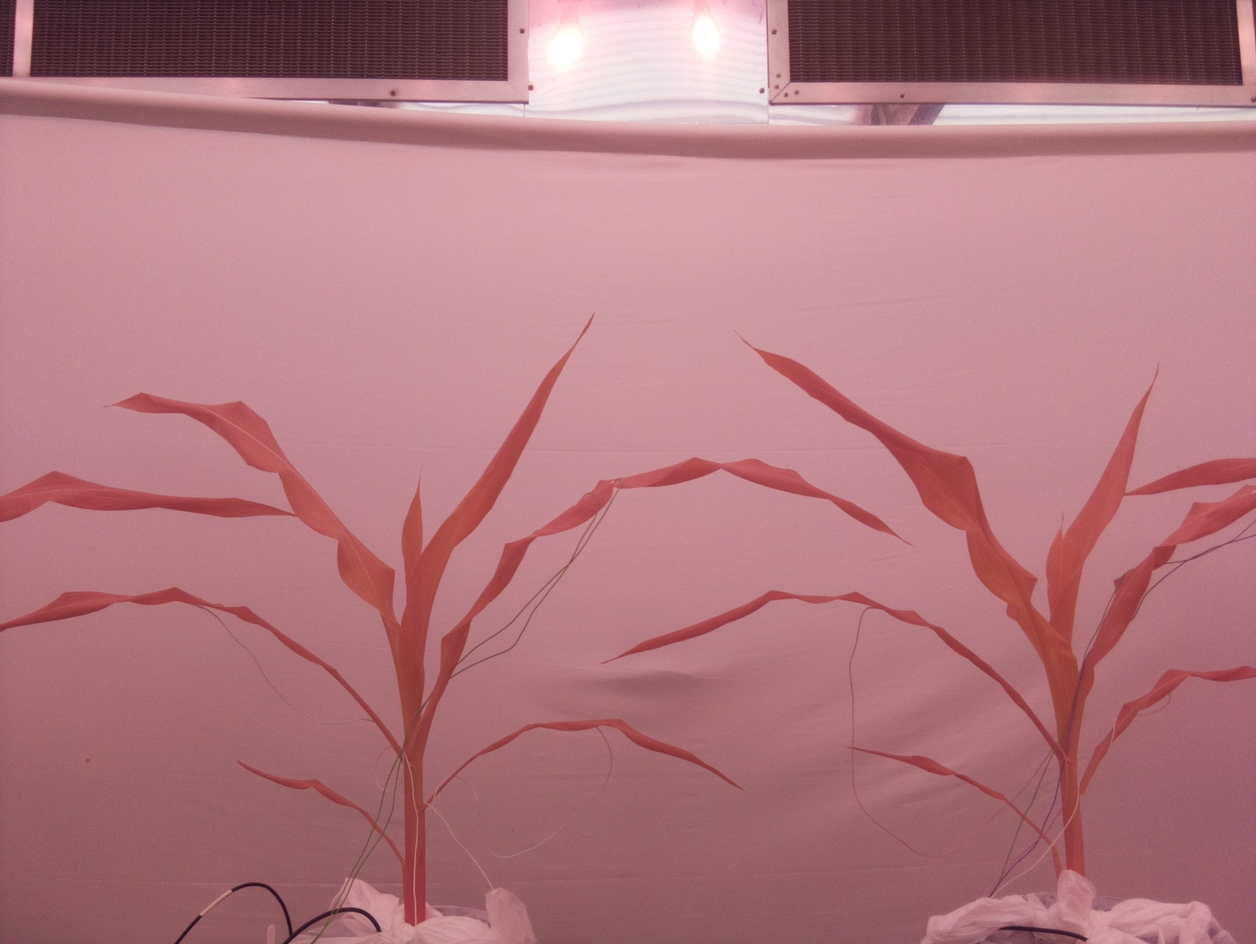maize: (1, 310, 916, 929), (603, 329, 1256, 879)
